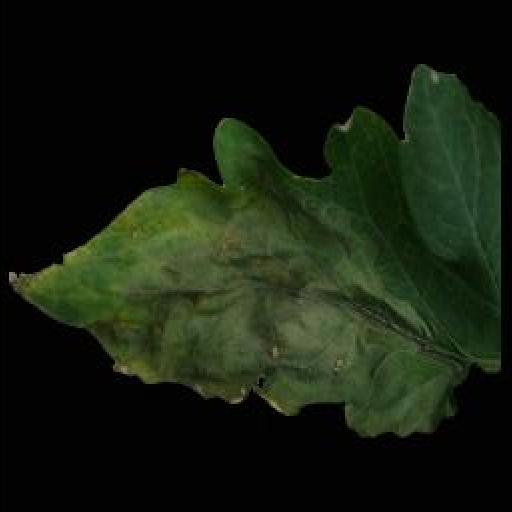disease_tomato: (6, 67, 502, 441)
